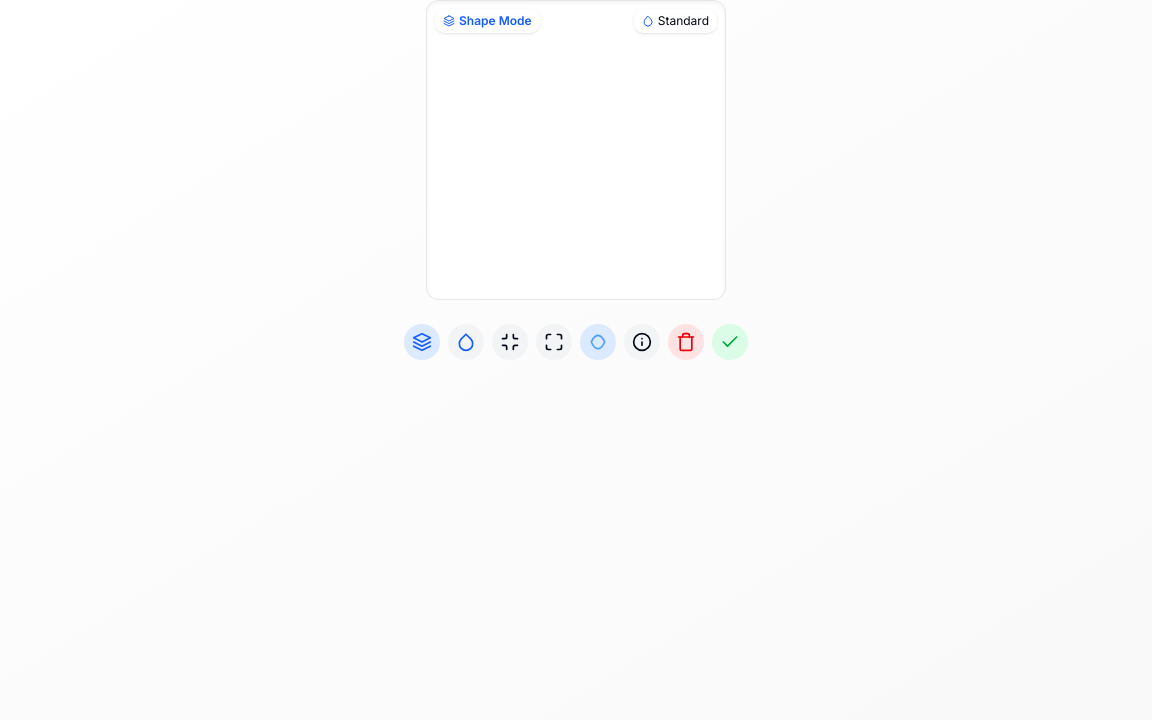
Test: <DrawingCanvas /> › toggles help modal when help button is clicked
Expected: the text "How to draw complex shapes" is not shown
Click the help button
Click the button named "Show help": (642,342) [624,324,660,360]
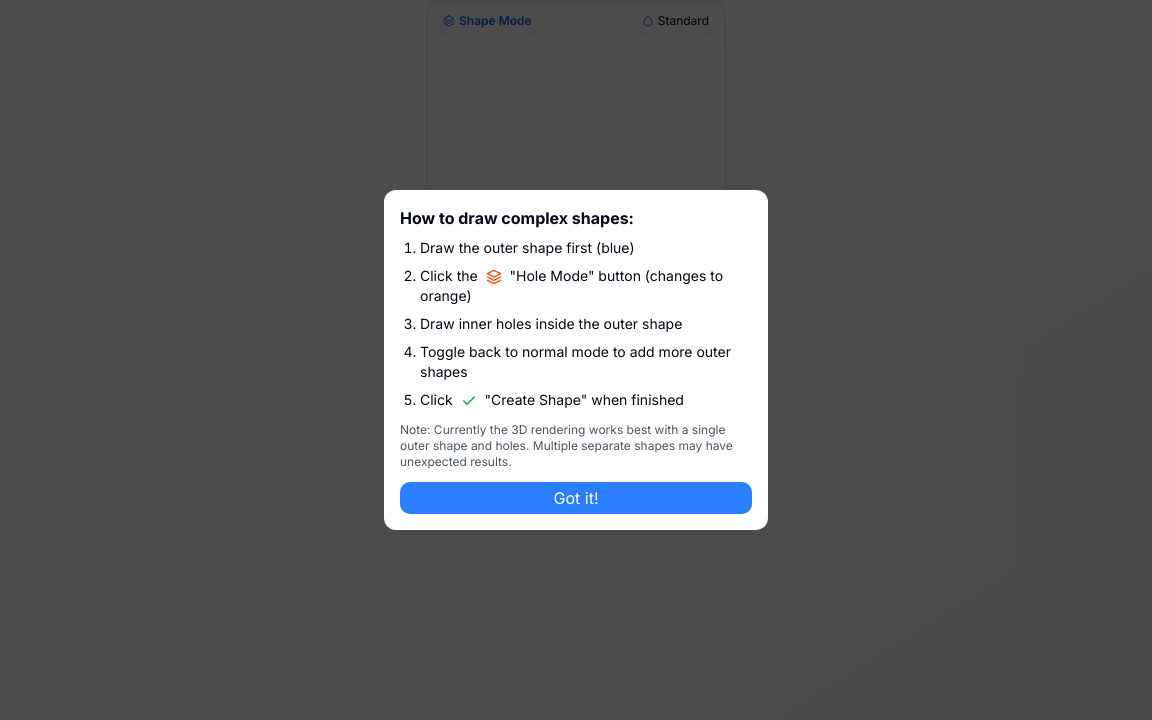
Result: the heading "How to draw complex shapes:" is shown at [400,208,634,228]
Result: the list item "Draw the outer shape first (blue)" is shown at [420,239,634,256]
Result: the list item "Click the \"Hole Mode\" button (changes to orange)" is shown at [420,266,752,306]
Click the close button
Click the button "Got it!": (576,498) [400,482,752,514]
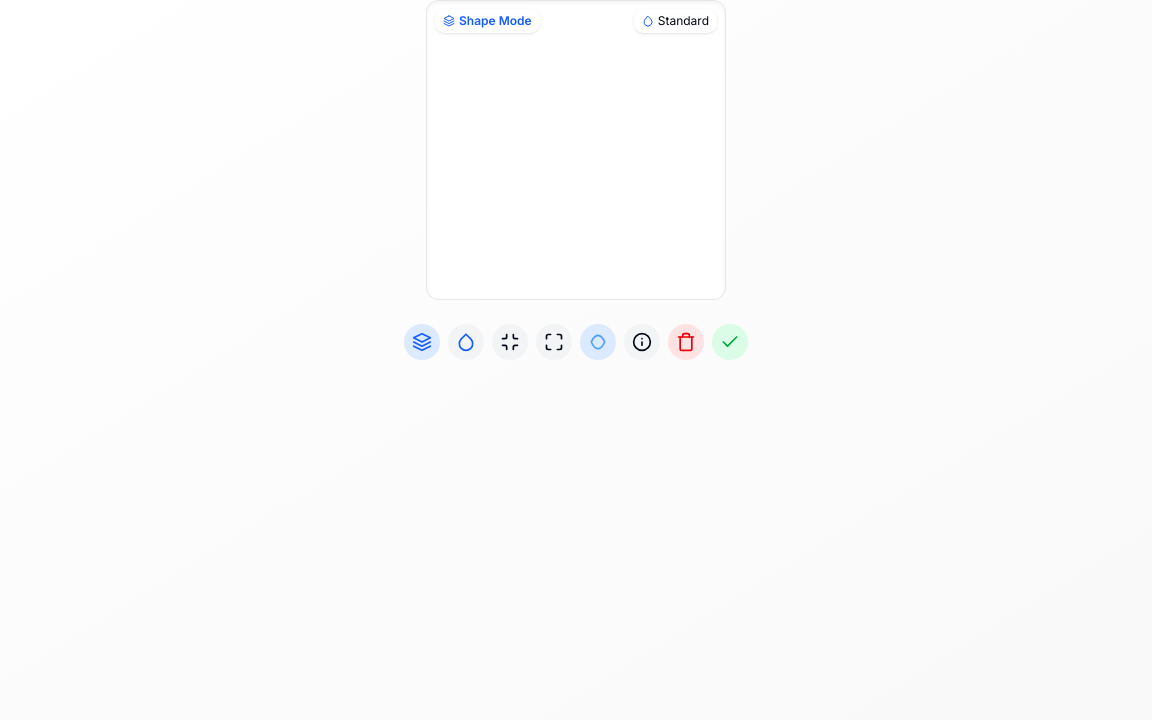
Result: the heading "How to draw complex shapes" is gone
